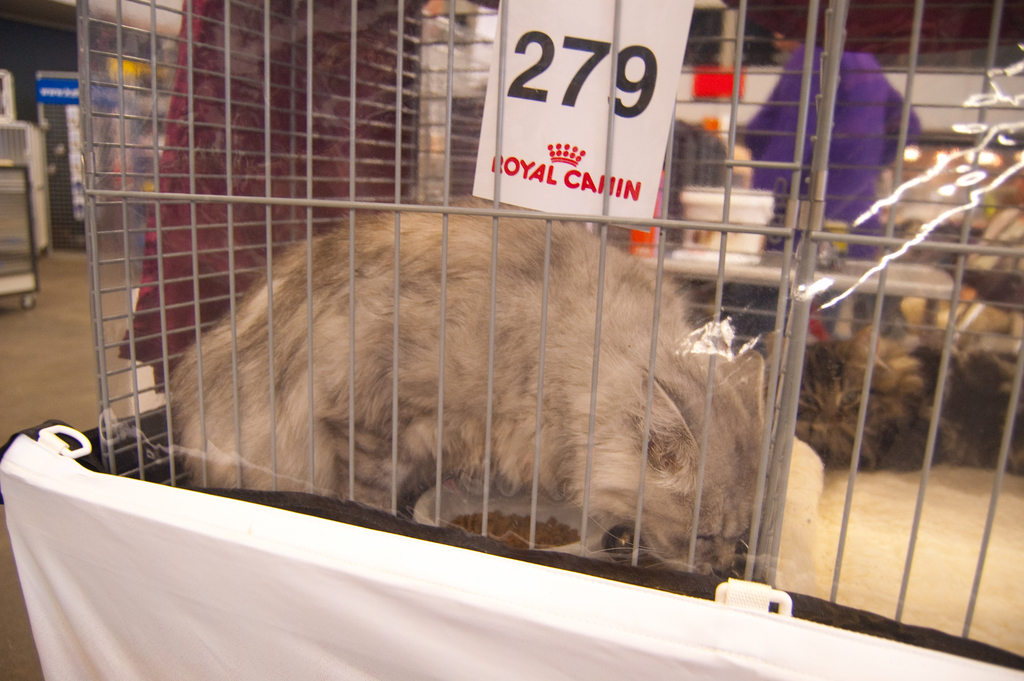Animal: (164, 200, 775, 577)
